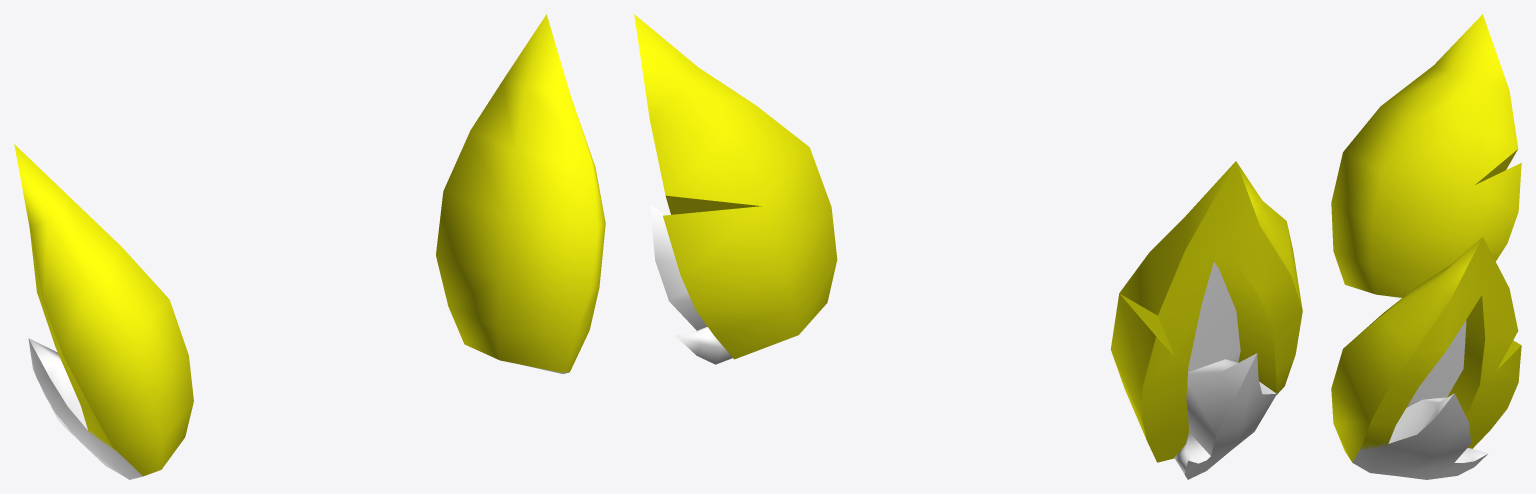
Rendered from bestial.glb.
The picture shows the model from 3 angles, left to right: view 1: azimuth 30°, elevation 25°; view 2: azimuth 150°, elevation 25°; view 3: azimuth 270°, elevation 25°; orthographic projection. The views are drawn at different scales.
Visible parts, largest first — view 1: Crest_1; view 2: Crest_1; view 3: Crest_1.
Part boxes in pixels (<box>): Crest_1: <box>14,14,605,479</box>; Crest_1: <box>634,14,1302,479</box>; Crest_1: <box>1331,14,1521,479</box>.
Bounding box in the file's own units: 0.4711 × 0.2548 × 0.1641.
1 material, 1 textured.
